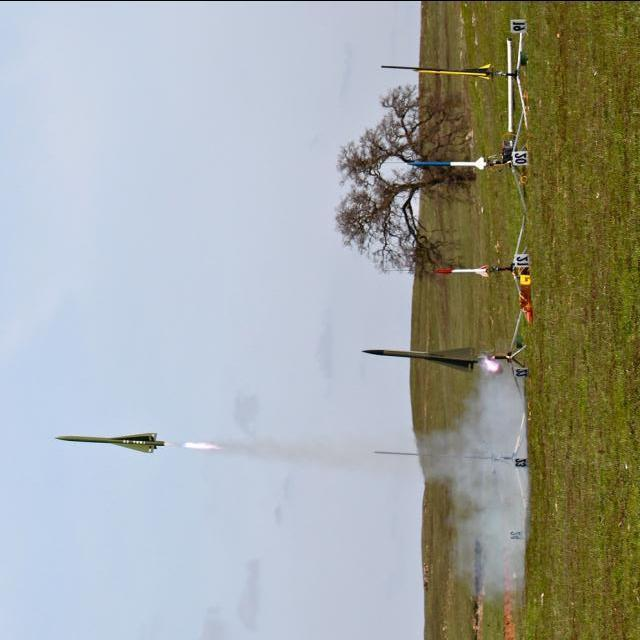missile: (55, 428, 165, 456)
